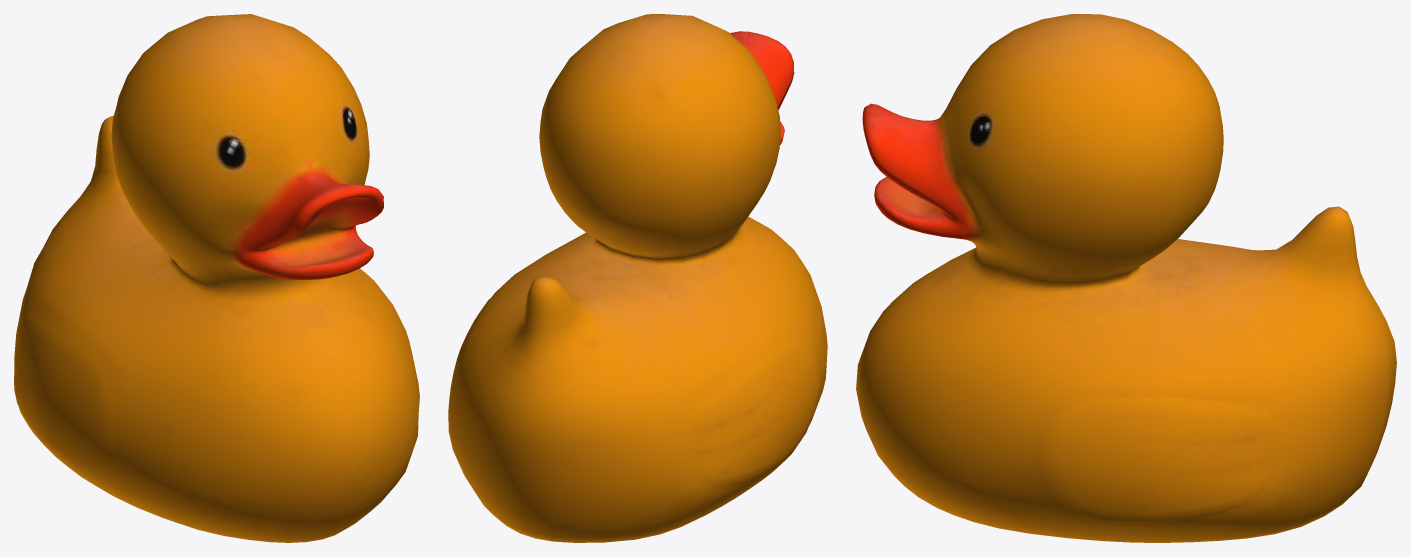
Rendered from rubber_duck_toy.glb.
3 views of the same model, side by side, from view 1: azimuth 30°, elevation 25°; view 2: azimuth 150°, elevation 25°; view 3: azimuth 270°, elevation 25° (orthographic). The views are drawn at different scales.
Parts seen in each view (by area): view 1: rubber_duck_toy; view 2: rubber_duck_toy; view 3: rubber_duck_toy.
Part boxes in pixels (x1,y1,x2,y2): rubber_duck_toy: [14, 14, 419, 542]; rubber_duck_toy: [448, 14, 827, 542]; rubber_duck_toy: [856, 14, 1396, 542].
Size of the model in its own units: 0.2135 by 0.2855 by 0.3.
1 material, 1 textured.
